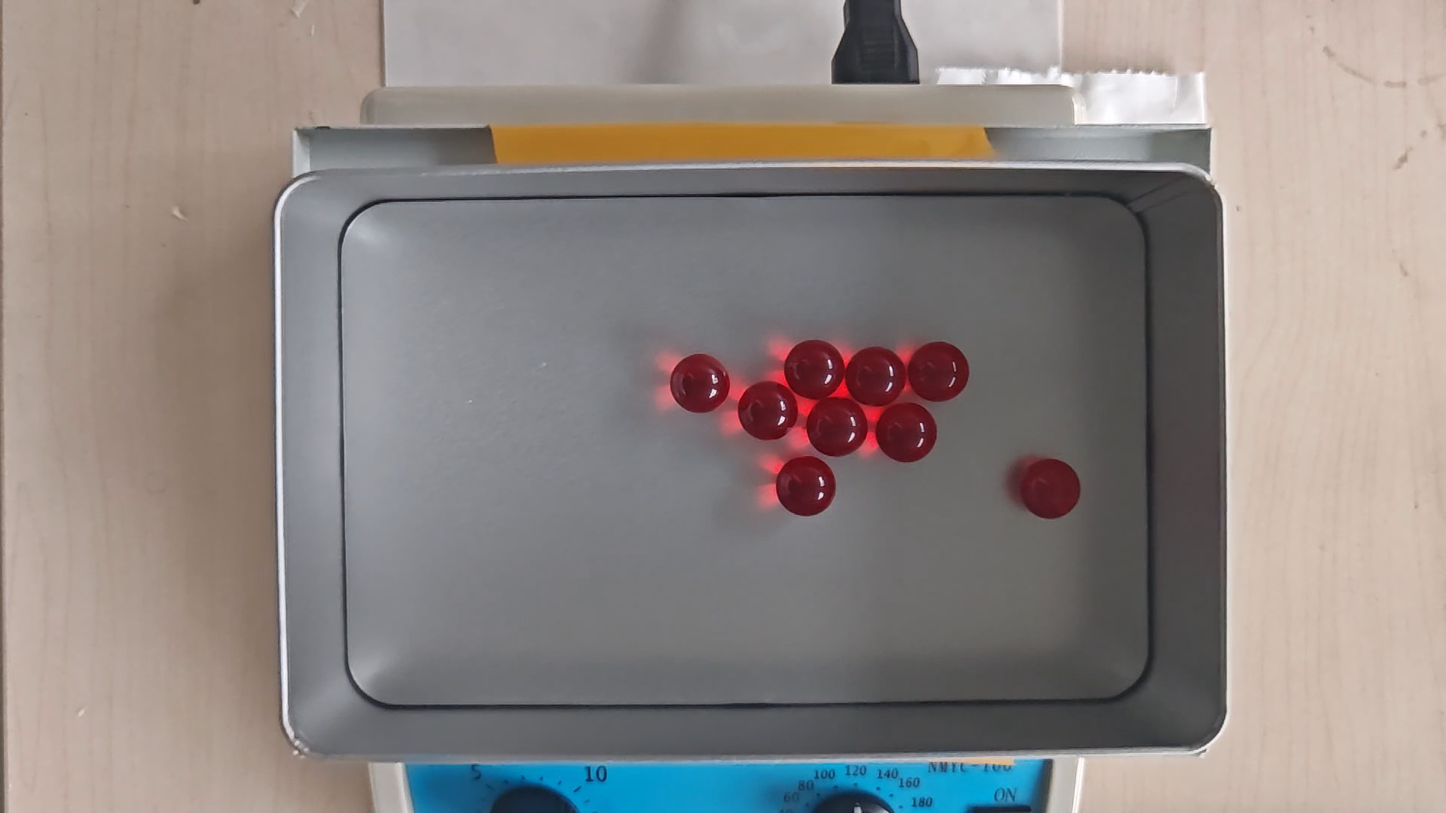ball: (1020, 457, 1081, 521), (876, 402, 938, 464), (909, 341, 970, 402), (776, 456, 836, 518), (670, 353, 729, 415), (784, 339, 844, 399), (738, 380, 797, 441), (807, 398, 868, 457), (847, 346, 904, 405)
container: (342, 194, 1149, 705)
